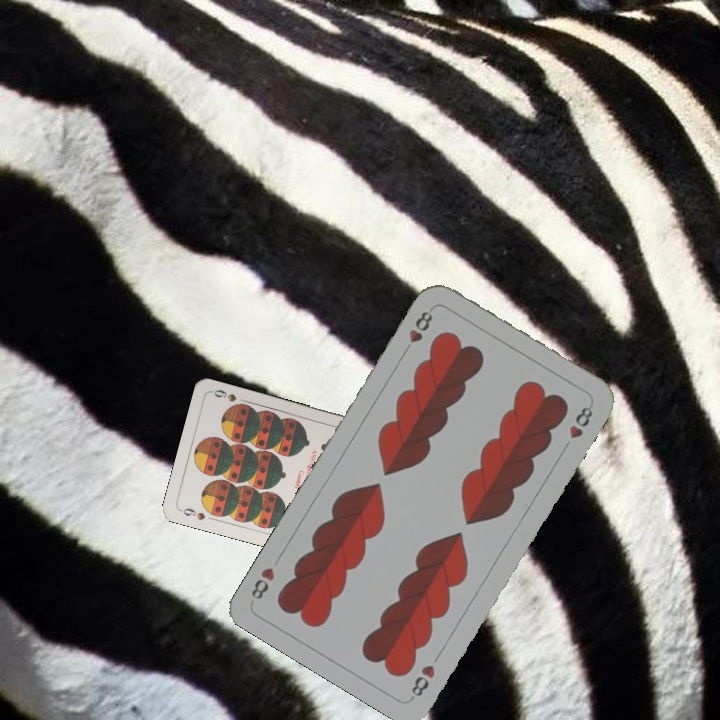H8: (406, 660, 438, 702), (404, 307, 436, 346)
S9: (176, 504, 208, 523)
